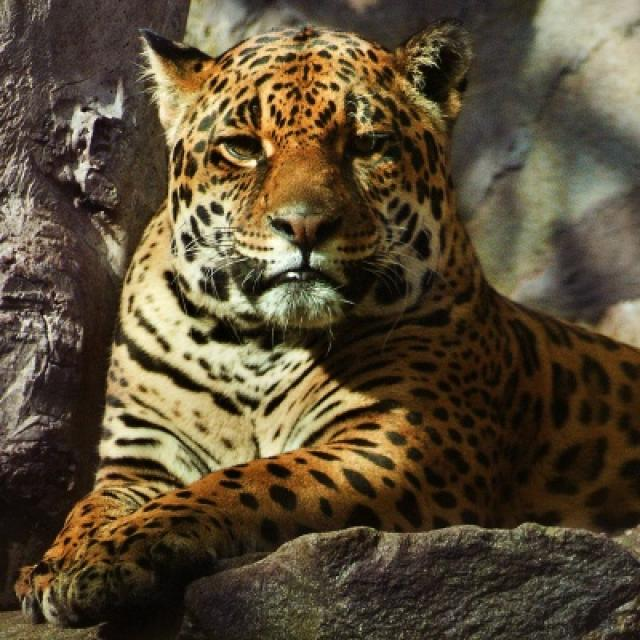Jaguar: (16, 19, 638, 638)
